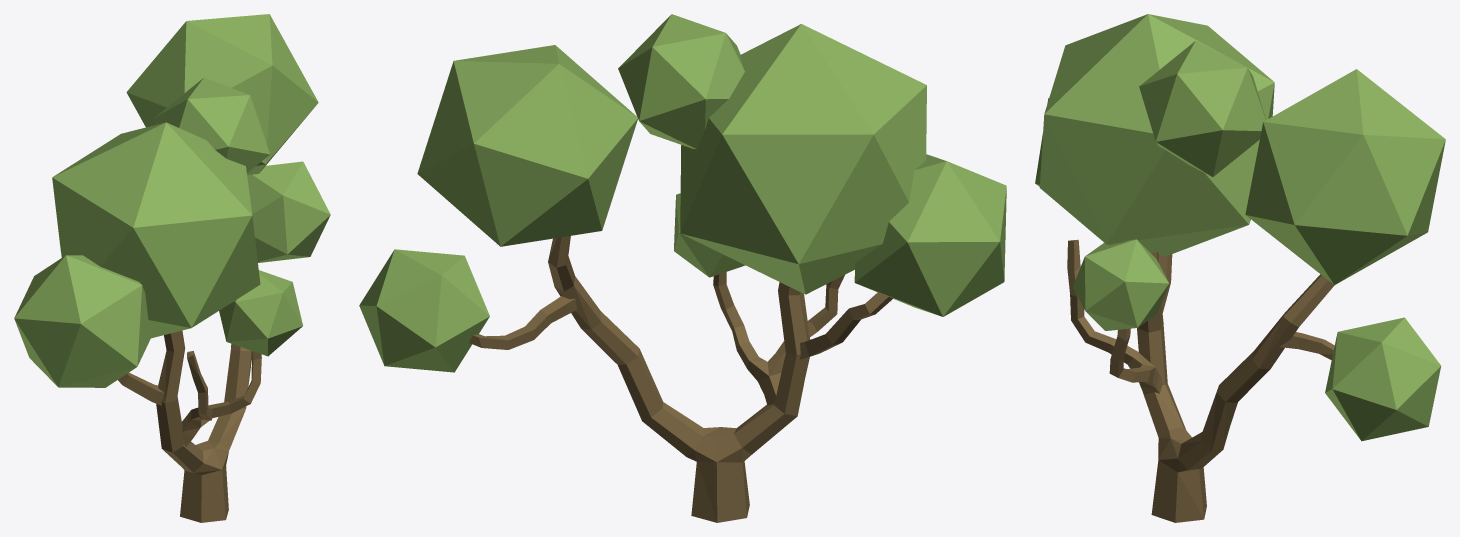
3 renders of one model, left to right at view 1: azimuth 30°, elevation 25°; view 2: azimuth 150°, elevation 25°; view 3: azimuth 270°, elevation 25°, orthographic. The views are drawn at different scales.
Visible parts, largest first — view 1: skp9CBD; view 2: skp9CBD; view 3: skp9CBD.
Boxes of the visible parts, <box> form: skp9CBD: <box>14,14,330,522</box>; skp9CBD: <box>359,14,1006,522</box>; skp9CBD: <box>1035,14,1445,522</box>.
Bounding box in the file's own units: 2.71 × 2.57 × 2.02.
